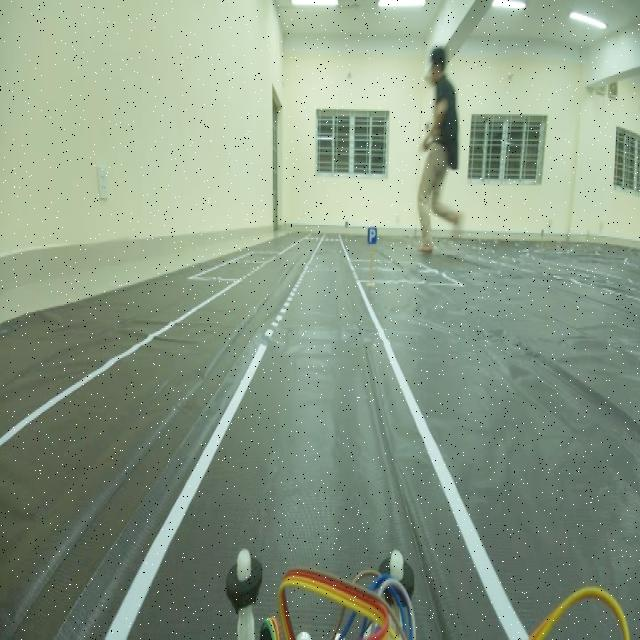parking: (366, 217, 381, 252)
